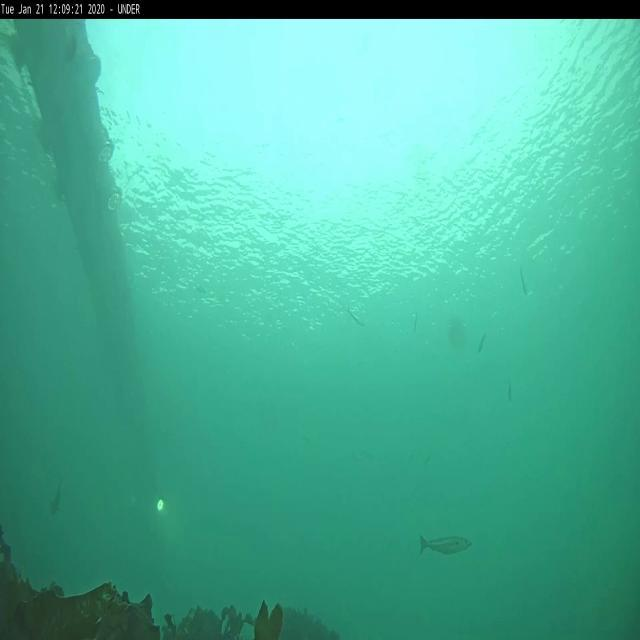fish: (420, 533, 473, 556), (51, 478, 63, 516), (346, 308, 366, 329), (519, 266, 528, 294), (477, 330, 485, 354), (508, 380, 512, 403), (414, 311, 418, 333)
